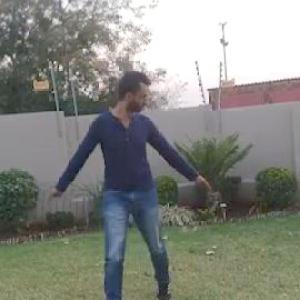land: (13, 58, 212, 299)
